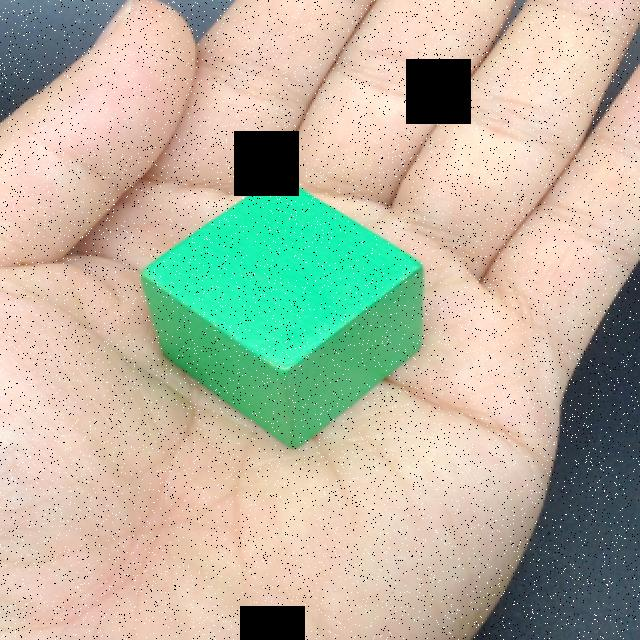green cube: (137, 171, 425, 452)
